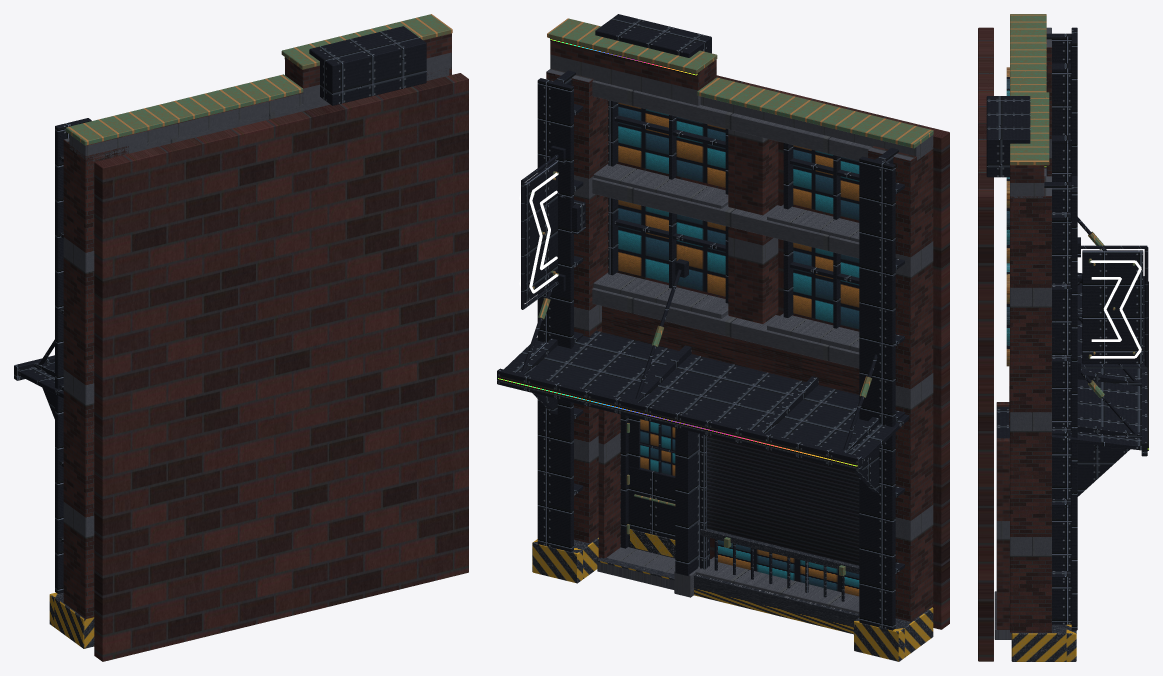
File: kosher-arcade-bay-v1.glb
3 views of the same model, side by side, from view 1: azimuth 30°, elevation 25°; view 2: azimuth 150°, elevation 25°; view 3: azimuth 270°, elevation 25° (orthographic). The views are drawn at different scales.
Parts seen in each view (by area): view 1: MasonryBrickAndLintels, ForgedSteelFrameAndCanopy, BronzeAndCopperHardware, HazardAndThresholdPlates; view 2: MasonryBrickAndLintels, ForgedSteelFrameAndCanopy, IndustrialWireGlass, CorrugatedSecurityShutter, HazardAndThresholdPlates, BronzeAndCopperHardware, VorathGoldSpectralTrim, BayAccentNeon; view 3: ForgedSteelFrameAndCanopy, MasonryBrickAndLintels, BronzeAndCopperHardware, HazardAndThresholdPlates, BayAccentNeon, IndustrialWireGlass.
Part boxes in pixels (<box>): MasonryBrickAndLintels: <box>63,33,468,661</box>; ForgedSteelFrameAndCanopy: <box>14,26,426,593</box>; BronzeAndCopperHardware: <box>65,14,452,145</box>; HazardAndThresholdPlates: <box>49,592,94,648</box>; MasonryBrickAndLintels: <box>546,41,949,629</box>; ForgedSteelFrameAndCanopy: <box>497,14,909,630</box>; IndustrialWireGlass: <box>618,102,859,596</box>; CorrugatedSecurityShutter: <box>707,435,859,565</box>; HazardAndThresholdPlates: <box>532,529,933,661</box>; BronzeAndCopperHardware: <box>530,18,933,576</box>; VorathGoldSpectralTrim: <box>498,38,857,467</box>; BayAccentNeon: <box>519,172,558,293</box>; ForgedSteelFrameAndCanopy: <box>986,27,1148,630</box>; MasonryBrickAndLintels: <box>978,27,1051,661</box>; BronzeAndCopperHardware: <box>1010,14,1135,398</box>; HazardAndThresholdPlates: <box>1011,624,1076,661</box>; BayAccentNeon: <box>1090,260,1141,358</box>; IndustrialWireGlass: <box>1006,67,1009,366</box>.
Size of the model in its own units: 6.08 by 8.44 by 2.59.
8 materials, 8 textured.
